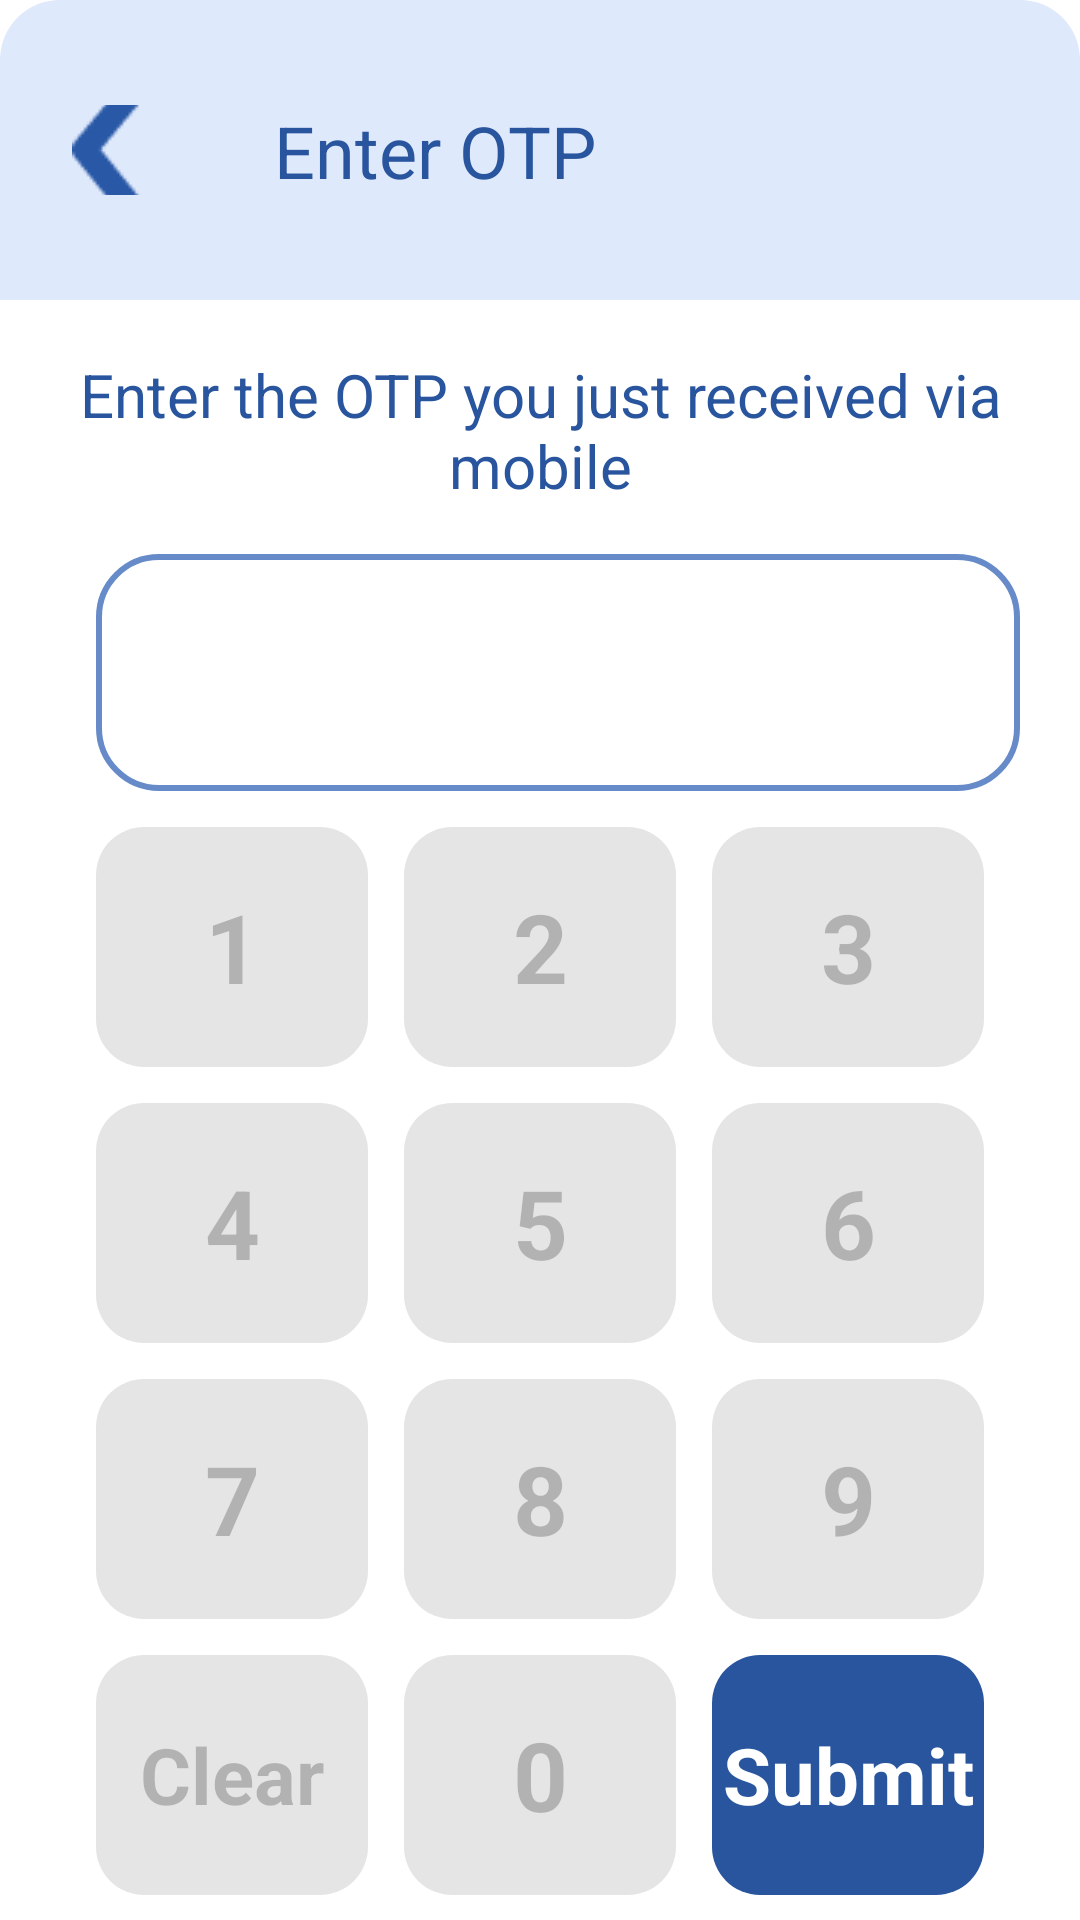

Named icons in this screenshot (1080px×1920px) and their bounding boxes, bbox=[x1, y1, x2, y2]:
back: bbox=[72, 105, 139, 195]
